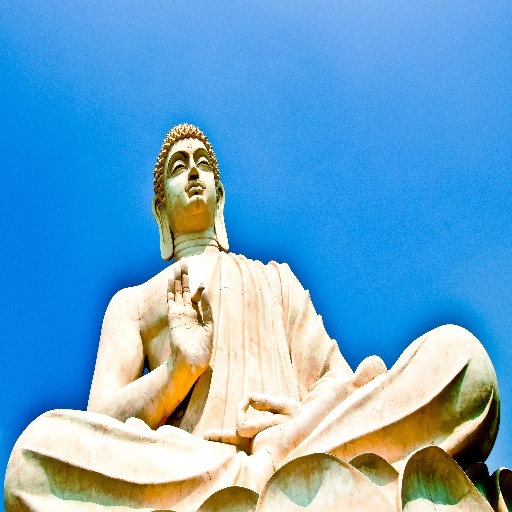hand: (202, 391, 303, 455), (165, 255, 213, 371)
